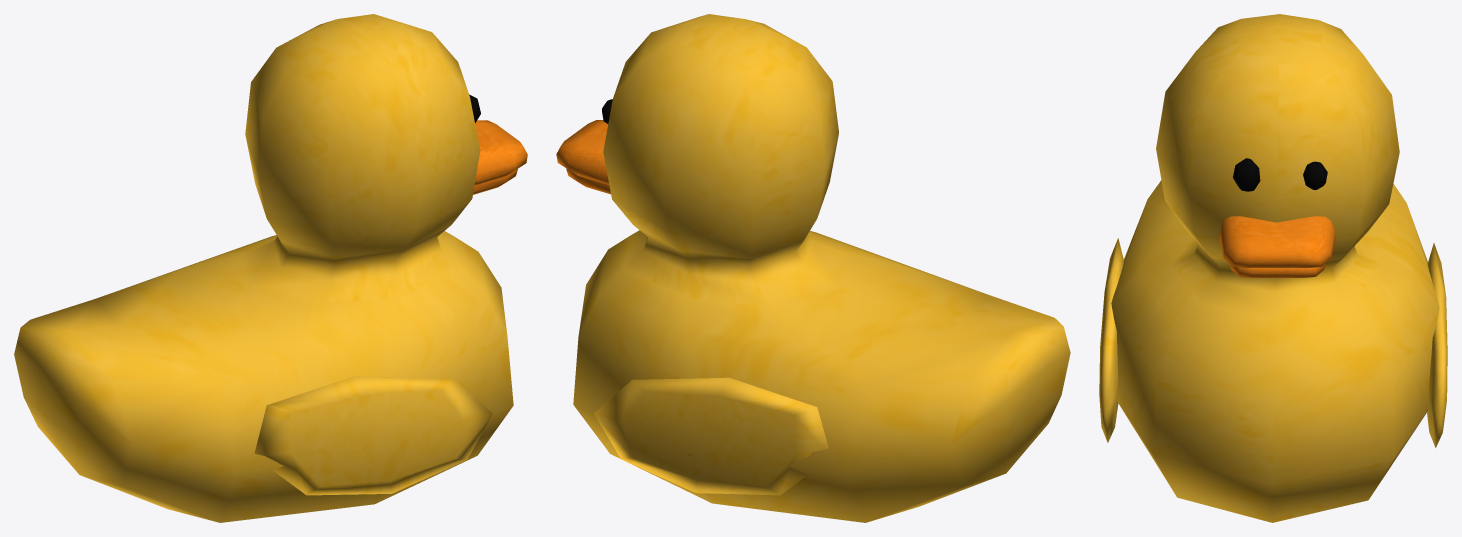
The model's file is And.glb.
The picture shows the model from 3 angles, left to right: view 1: azimuth 30°, elevation 25°; view 2: azimuth 150°, elevation 25°; view 3: azimuth 270°, elevation 25°; orthographic projection. The views are drawn at different scales.
Visible parts, largest first — view 1: Krop.008; view 2: Krop.008; view 3: Krop.008.
Part boxes in pixels (box(x1,y1,x2,y2)): Krop.008: box(14, 14, 527, 522); Krop.008: box(556, 14, 1070, 522); Krop.008: box(1099, 14, 1447, 522).
Size of the model in its own units: 0.0503 by 0.0456 by 0.0303.
Materials: 1 (1 with a texture image).
